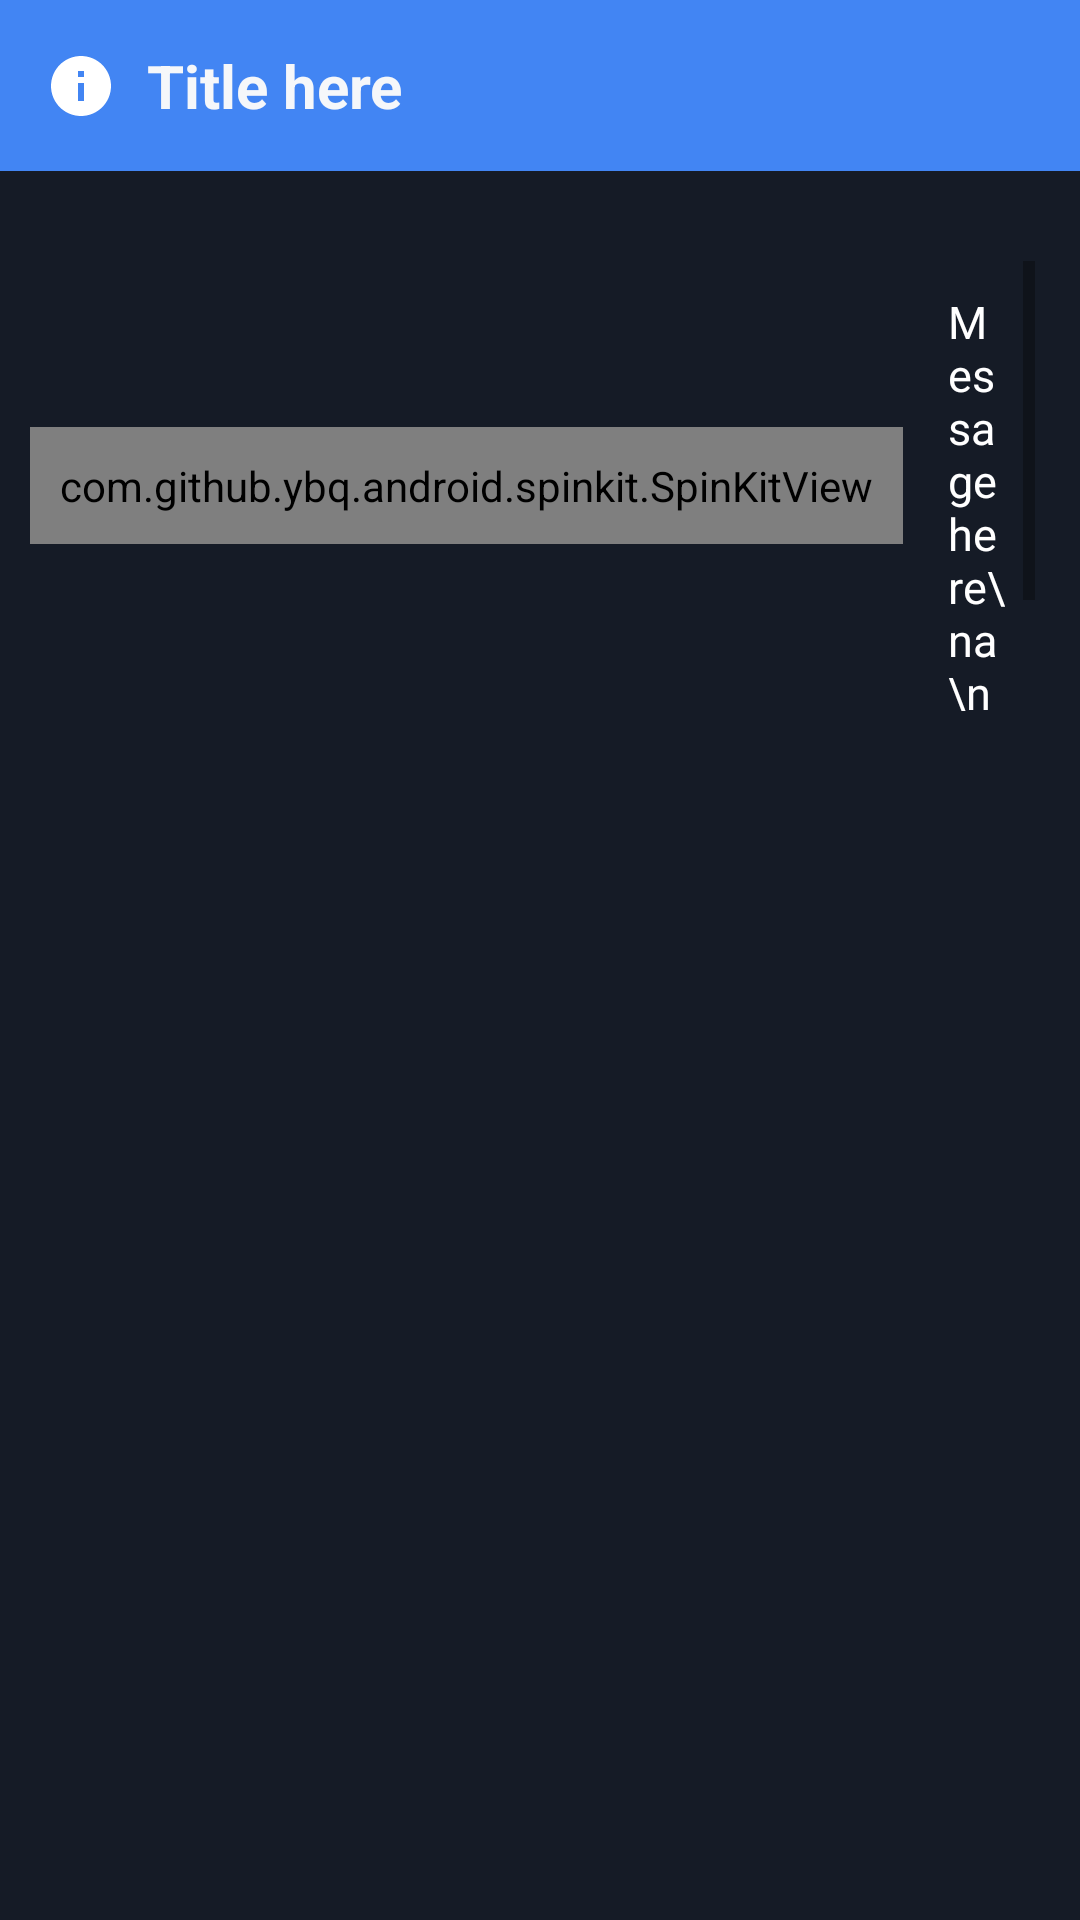

Locate icon controls on the screen. Image size 1080px x 1920px, boxes as (x1, y1, x2, y2).
info: (51, 56, 111, 116)
